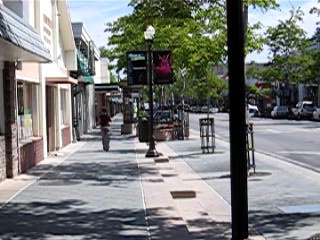person: (99, 107, 114, 154), (98, 107, 113, 154), (100, 107, 115, 154), (99, 106, 114, 153), (99, 108, 114, 155)
target_negative: (14, 15, 279, 233), (147, 135, 242, 240), (220, 108, 295, 194), (42, 195, 292, 212), (45, 213, 233, 217), (235, 227, 271, 238)
